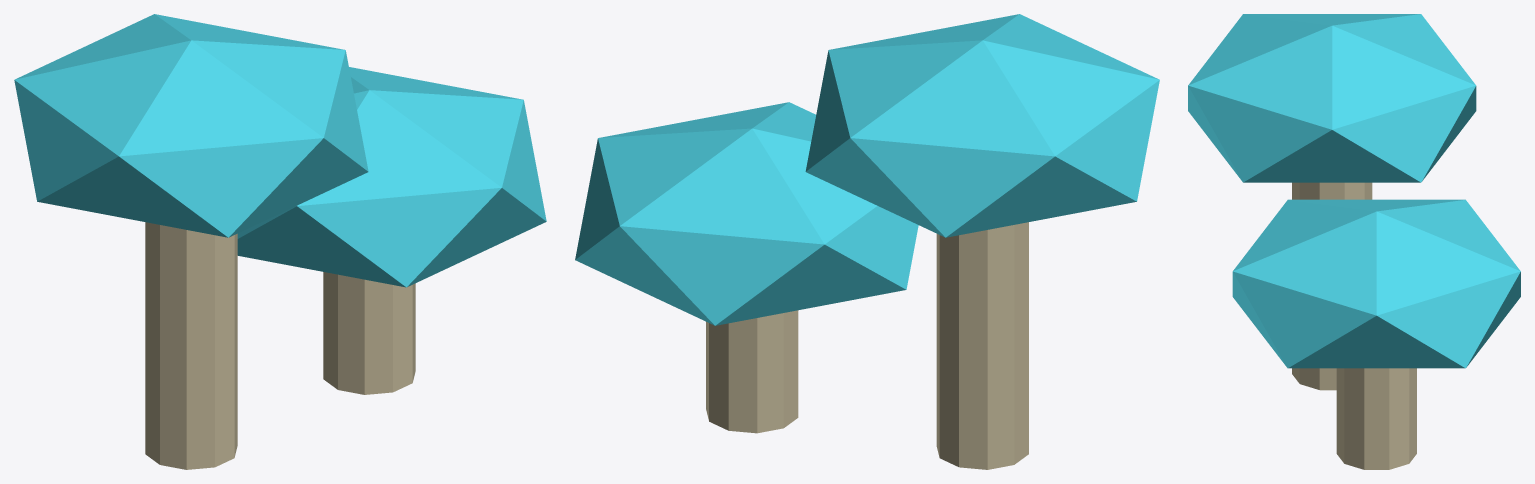
File: mushrooms.fbx
3 renders of one model, left to right at view 1: azimuth 30°, elevation 25°; view 2: azimuth 150°, elevation 25°; view 3: azimuth 270°, elevation 25°, orthographic. The views are drawn at different scales.
Visible parts, largest first — view 1: Cap, Cap.001, Stem, Stem.001; view 2: Cap, Cap.001, Stem, Stem.001; view 3: Cap.001, Cap, Stem.001, Stem.
Part boxes in pixels (x1,y1,x2,y2): Cap: (14,14,368,237); Cap.001: (237,67,546,287); Stem: (145,222,237,469); Stem.001: (323,272,415,394); Cap: (805,14,1159,237); Cap.001: (575,102,918,325); Stem: (936,222,1028,469); Stem.001: (706,310,798,433); Cap.001: (1232,199,1520,368); Cap: (1188,14,1476,182); Stem.001: (1336,368,1416,469); Stem: (1292,182,1372,390).
Bounding box in the file's own units: 113 × 86.25 × 74.65.
